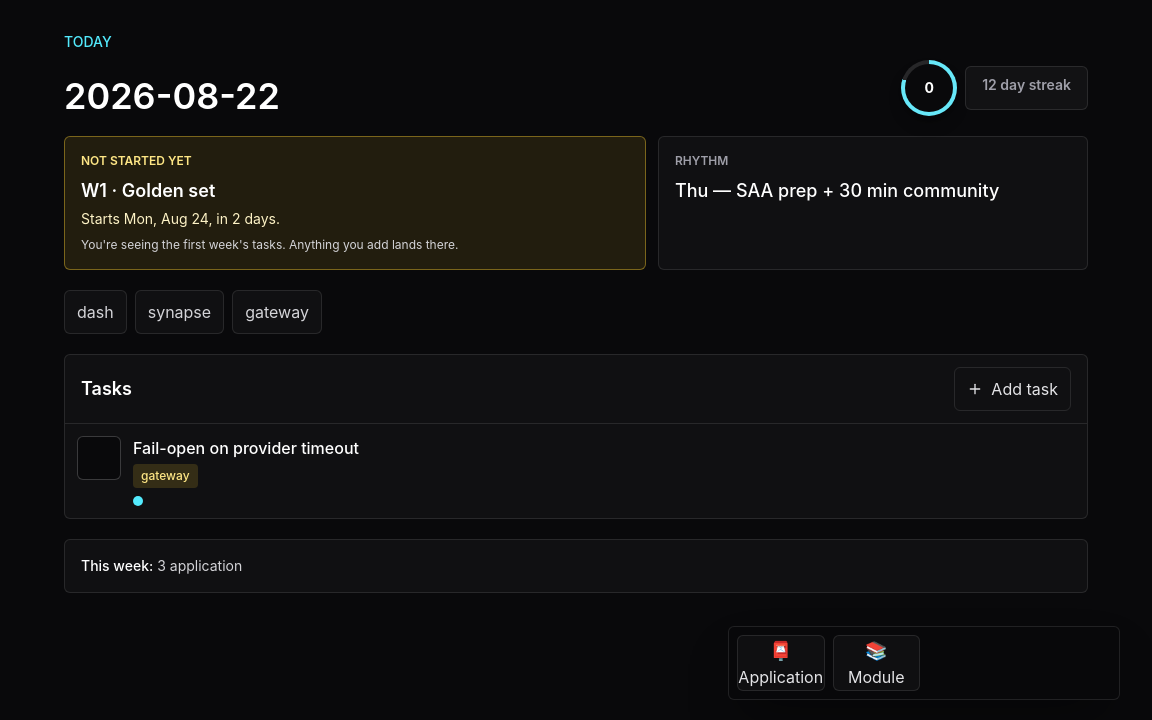
TodayPage › allows adding a task before the plan has started
Click the button "Add task". click: (1013, 389)
box: [954,367,1071,411]
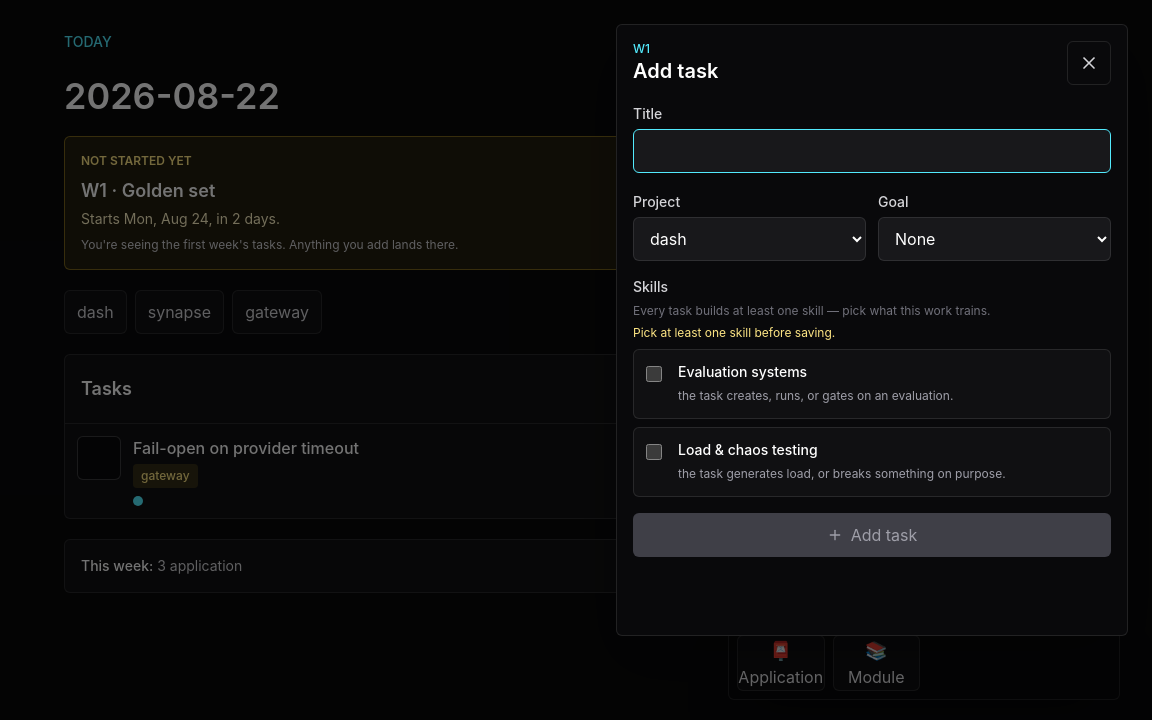
Now the text "W1" is shown, box [633,41,650,56]
